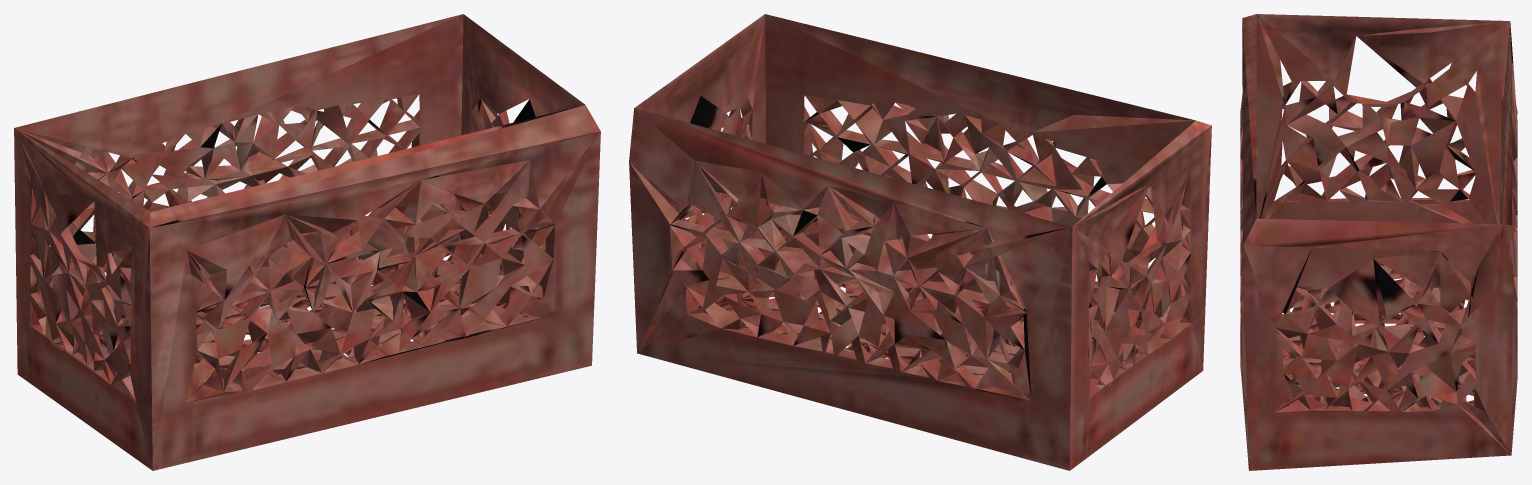
The model's file is plastic_crate_03.glb.
3 views of the same model, side by side, from view 1: azimuth 30°, elevation 25°; view 2: azimuth 150°, elevation 25°; view 3: azimuth 270°, elevation 25° (orthographic). The views are drawn at different scales.
Parts seen in each view (by area): view 1: plastic_crate_03; view 2: plastic_crate_03; view 3: plastic_crate_03.
Part boxes in pixels (left/top/right/bottom): plastic_crate_03: left=14, top=14, right=600, bottom=470; plastic_crate_03: left=629, top=14, right=1211, bottom=470; plastic_crate_03: left=1240, top=14, right=1517, bottom=470.
Size of what is drawn, in the model's own units: 0.4835 by 0.2645 by 0.265.
1 material, 1 textured.
